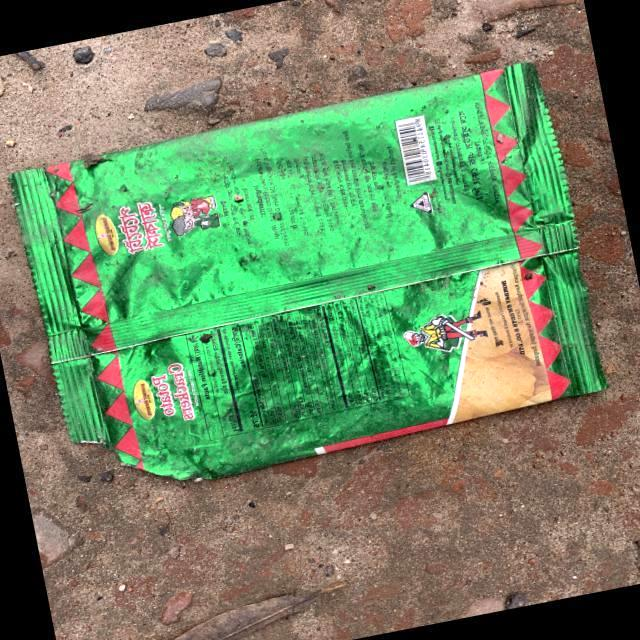packet: (68, 147, 583, 410)
